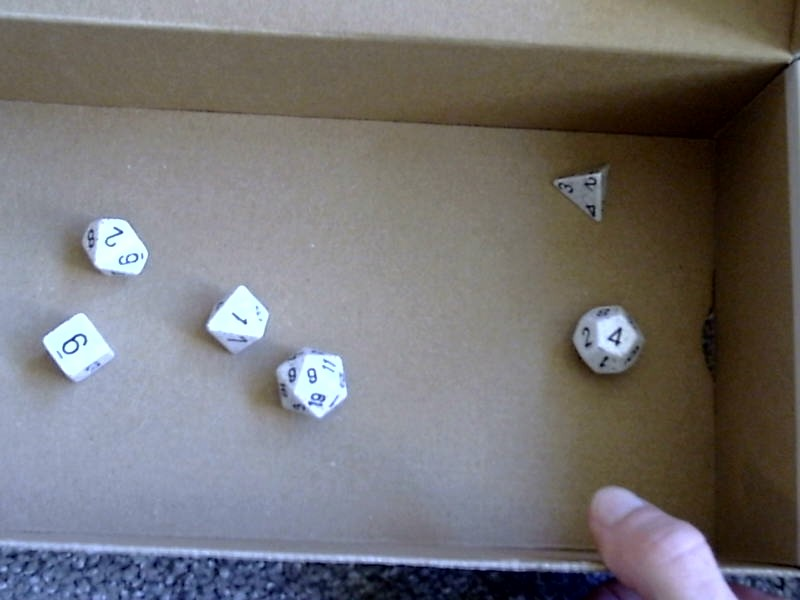d10 2: (75, 211, 150, 281)
d12 4: (566, 298, 655, 382)
d20 9: (271, 346, 353, 423)
d4 2: (547, 157, 612, 225)
d6 6: (33, 309, 117, 386)
d8 1: (200, 282, 271, 357)
